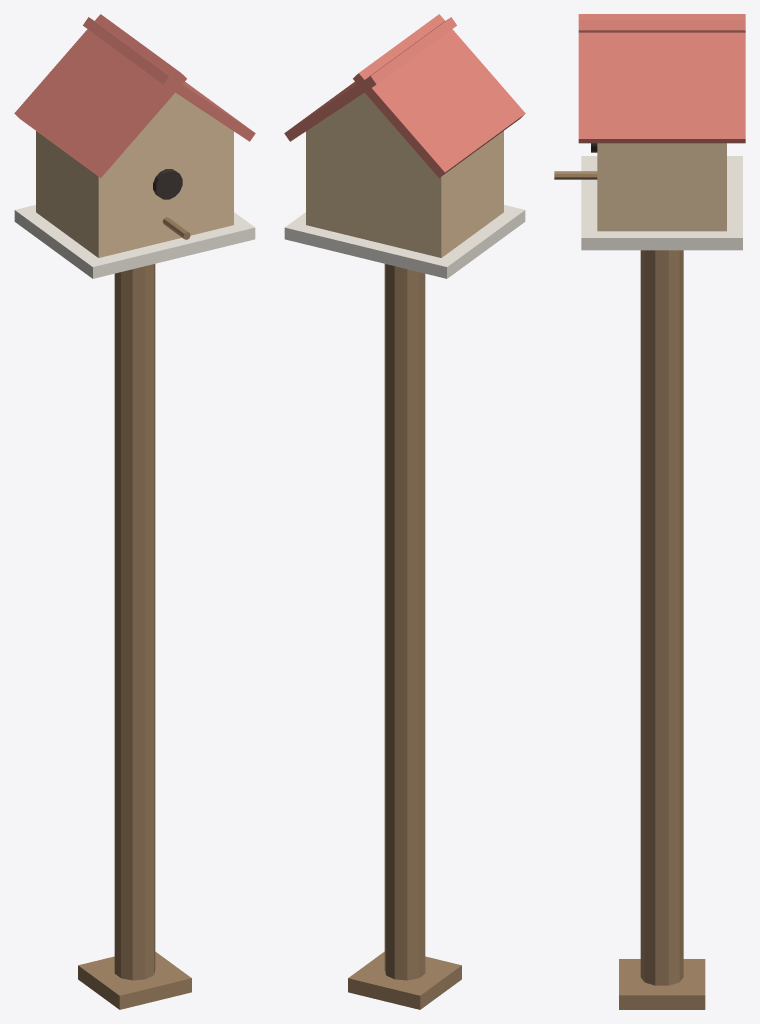
The model's file is th4_vogelhaus.glb.
3 views of the same model, side by side, from view 1: azimuth 30°, elevation 25°; view 2: azimuth 150°, elevation 25°; view 3: azimuth 270°, elevation 25° (orthographic). The views are drawn at different scales.
Parts seen in each view (by area): view 1: Vogelhaus; view 2: Vogelhaus; view 3: Vogelhaus.
Part boxes in pixels (bbox=[...]): Vogelhaus: bbox=[14, 14, 255, 1009]; Vogelhaus: bbox=[284, 14, 525, 1009]; Vogelhaus: bbox=[554, 14, 745, 1009].
Size of the model in its own units: 0.36 by 1.99 by 0.355.
